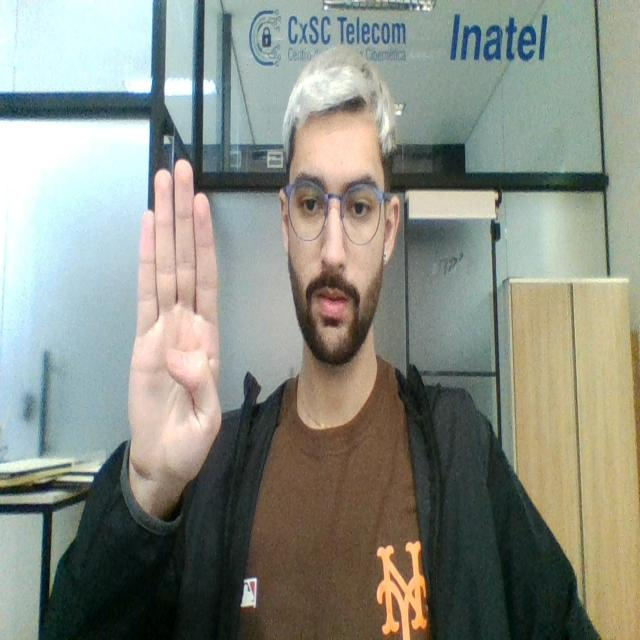B: (127, 158, 227, 486)
